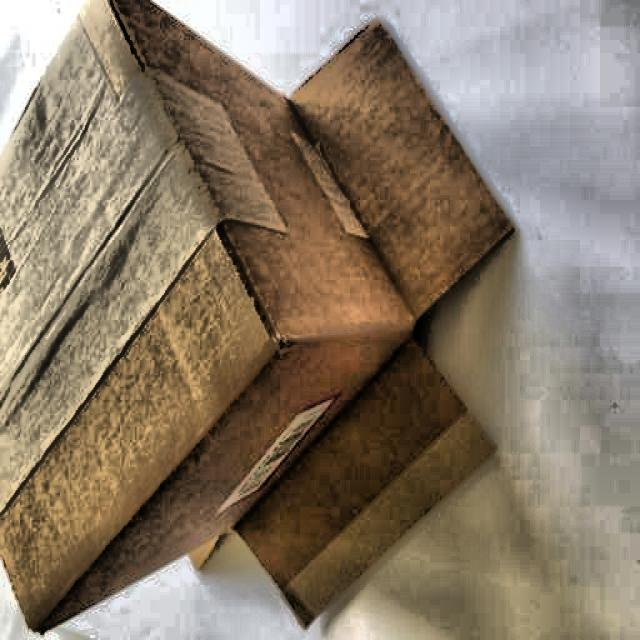cardboard: (0, 0, 514, 601)
